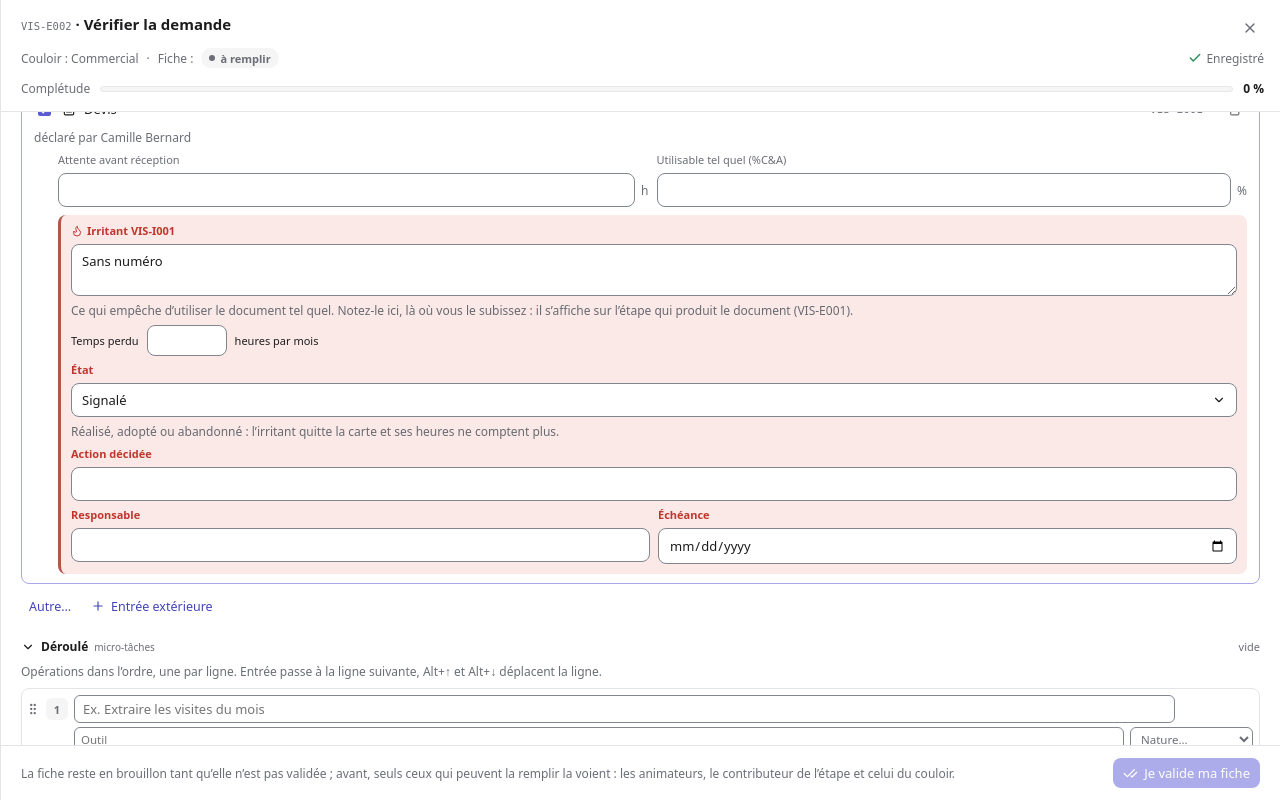
Test: the status written as it is chosen (ADR 116) › a refusal for a version changed is said and the sheet is read again
(page scrolled)
Click the button "Signalé": (104, 400) [71,383,1237,417]
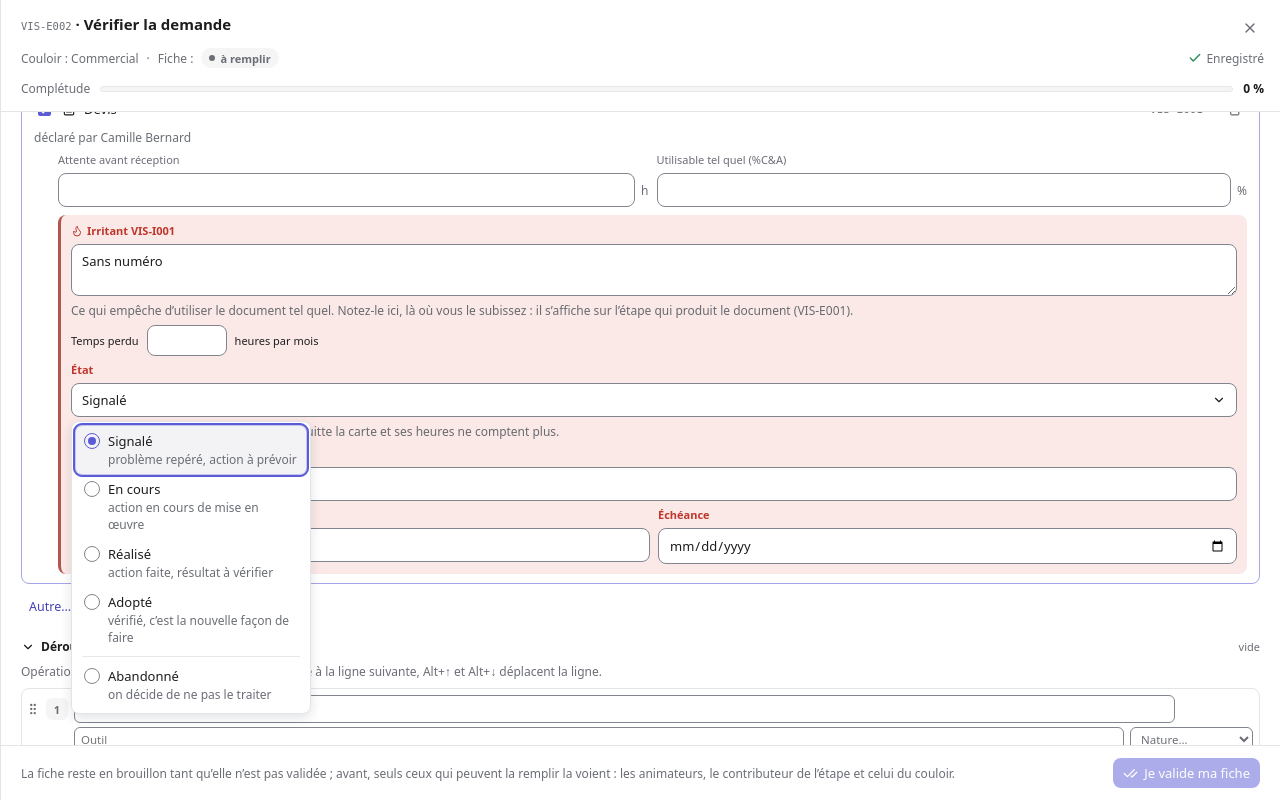
Click the menu item with aria-label "Abandonné — on décide de ne pas le traiter": (191, 685) [76,661,306,709]
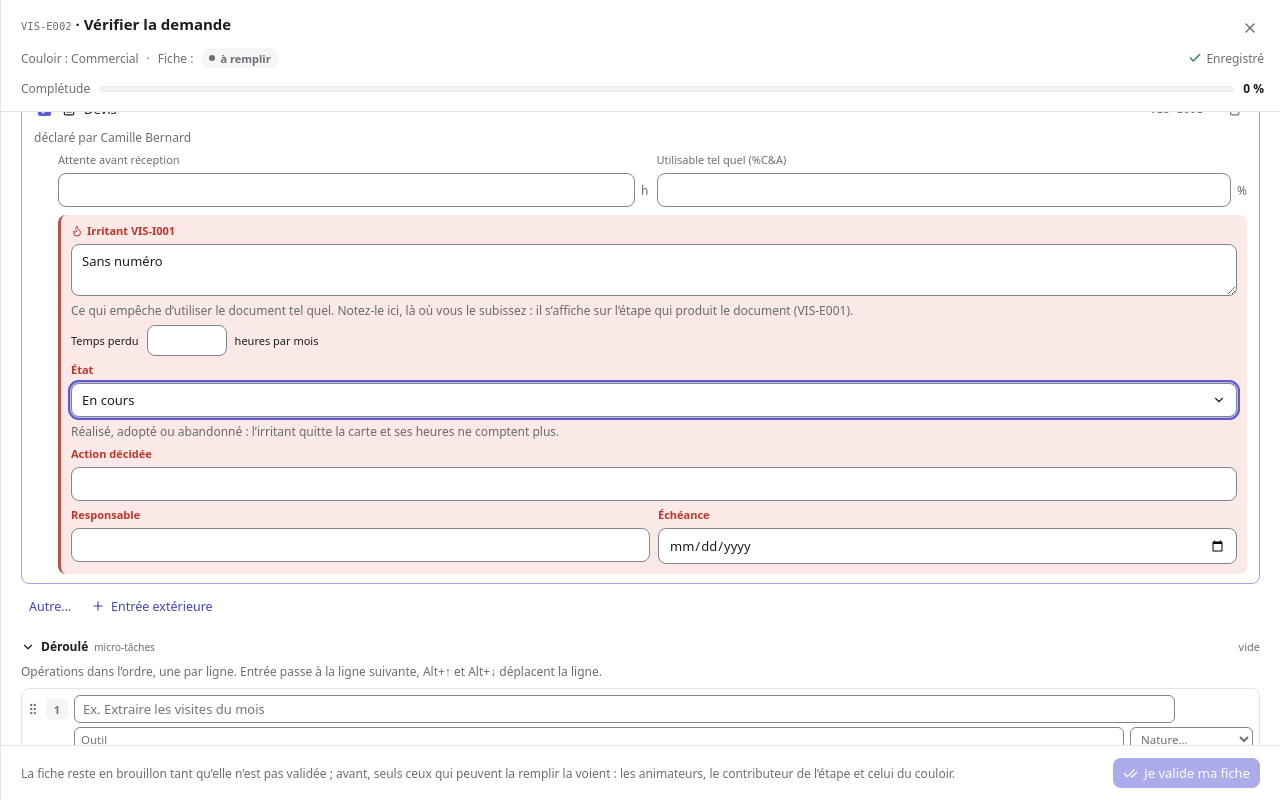
Result: the button "En cours" is shown at [71,383,1237,417]
